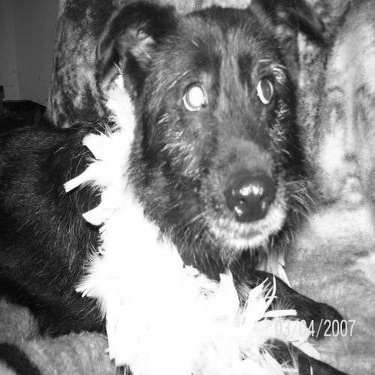dog: (4, 1, 357, 371)
